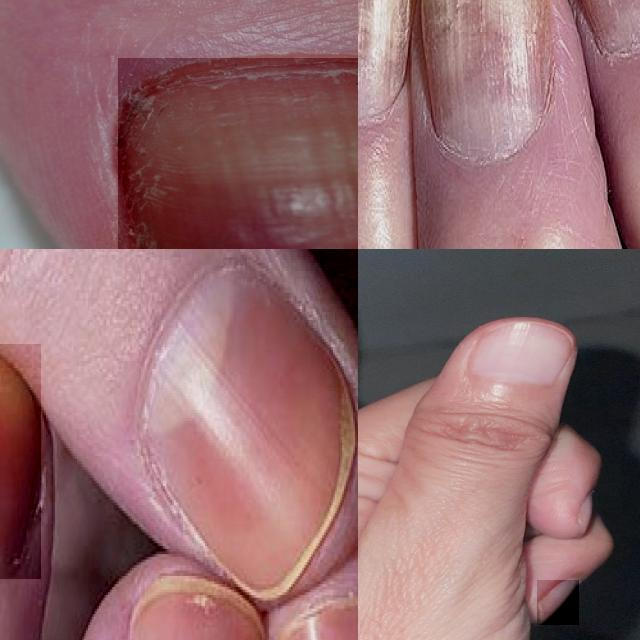diabetes: (142, 265, 348, 595), (118, 58, 358, 249), (420, 0, 553, 156), (0, 354, 41, 575), (358, 0, 416, 119)
sehat: (468, 321, 571, 386), (538, 580, 579, 625), (577, 491, 593, 530)
